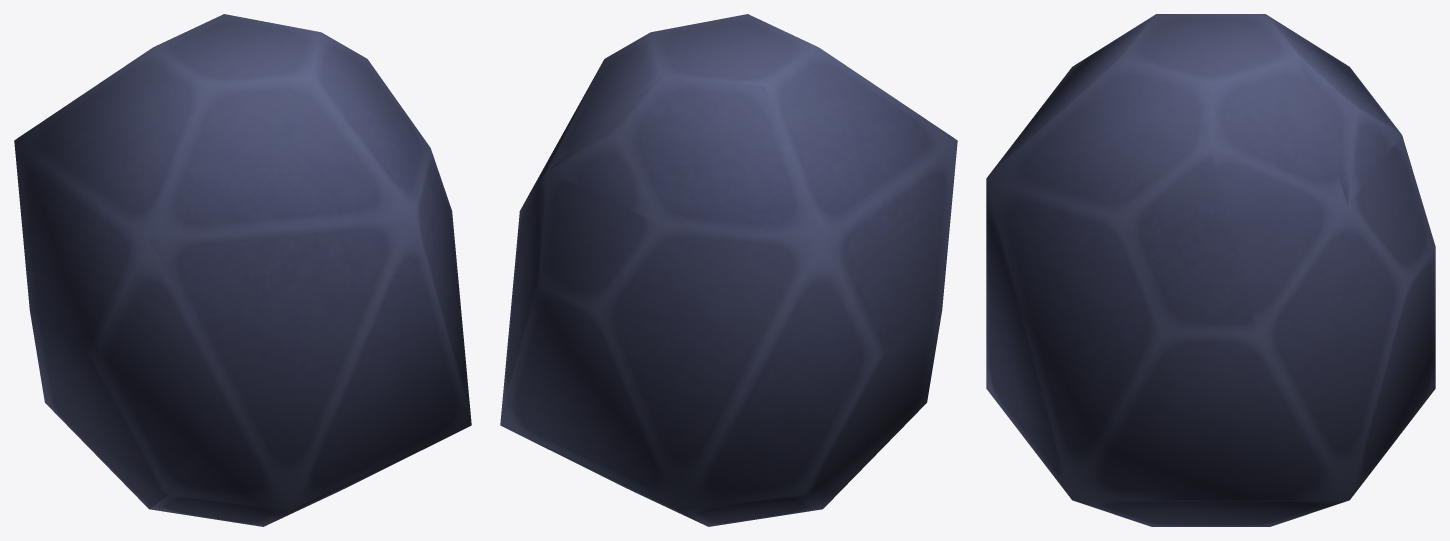
Rendered from splippy_rock_01.fbx.
3 views of the same model, side by side, from view 1: azimuth 30°, elevation 25°; view 2: azimuth 150°, elevation 25°; view 3: azimuth 270°, elevation 25° (orthographic). The views are drawn at different scales.
Parts seen in each view (by area): view 1: splippy_rock_01; view 2: splippy_rock_01; view 3: splippy_rock_01.
Part boxes in pixels (x1=…): splippy_rock_01: x1=14, y1=14, x2=471, y2=526; splippy_rock_01: x1=500, y1=14, x2=957, y2=526; splippy_rock_01: x1=986, y1=14, x2=1435, y2=526.
Size of the model in its own units: 52.89 by 59.82 by 54.53.
Materials: 1 (1 with a texture image).
